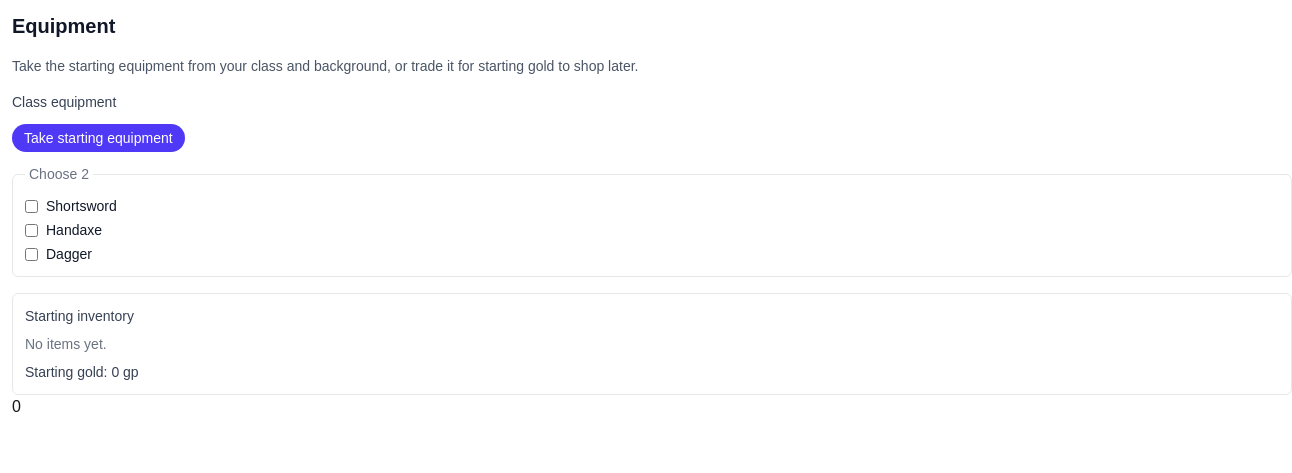
EquipmentStep — starting equipment vs gold › enforces the choose count for a multi-pick group
Step 1. Click the checkbox labelled "Shortsword" → (32, 206), box [25,200,38,212]
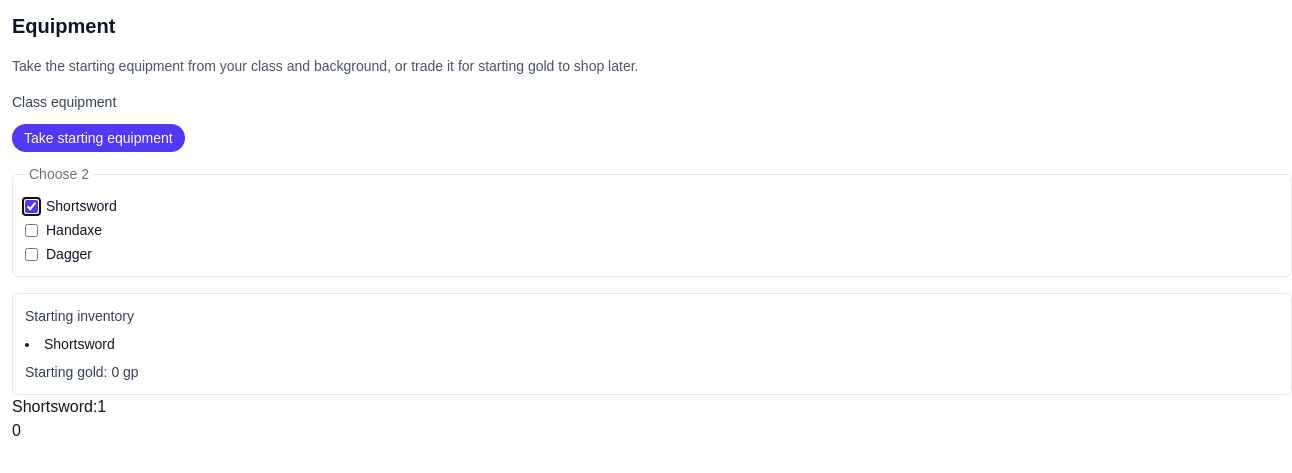
Step 2. Click the checkbox labelled "Handaxe" → (32, 230), box [25,224,38,236]
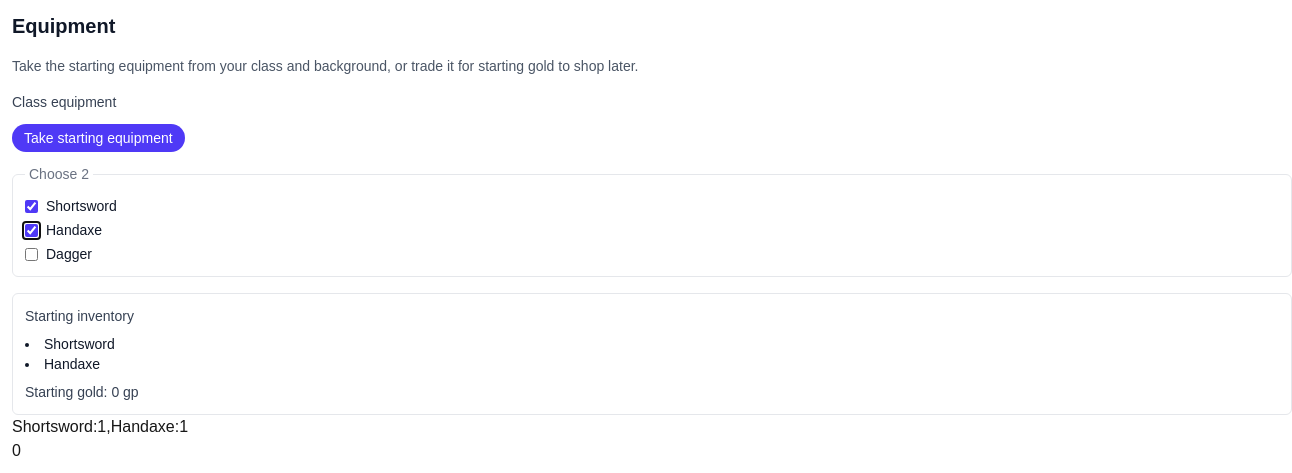
Expected: the text with test id "draft-inventory" reads "Shortsword:1,Handaxe:1", [12,418,188,435]
# A third pick is rejected — the group only allows two.
Step 3. Click the checkbox labelled "Dagger" → (32, 254), box [25,248,38,260]
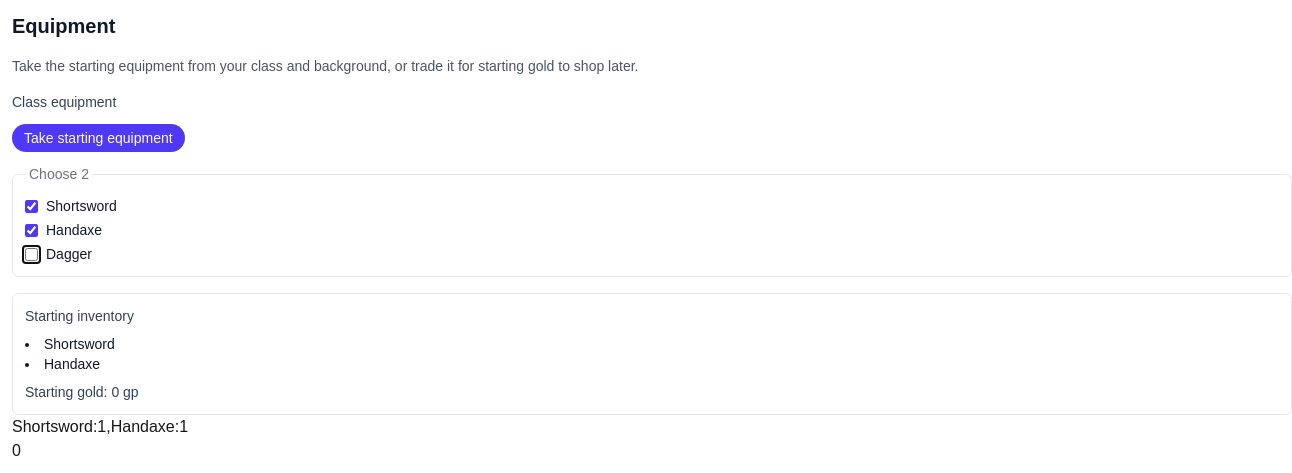
Expected: the text with test id "draft-inventory" reads "Shortsword:1,Handaxe:1", [12,418,188,435]
# Un-checking a pick frees a slot and drops the item.
Step 4. Click the checkbox labelled "Handaxe" → (32, 230), box [25,224,38,236]
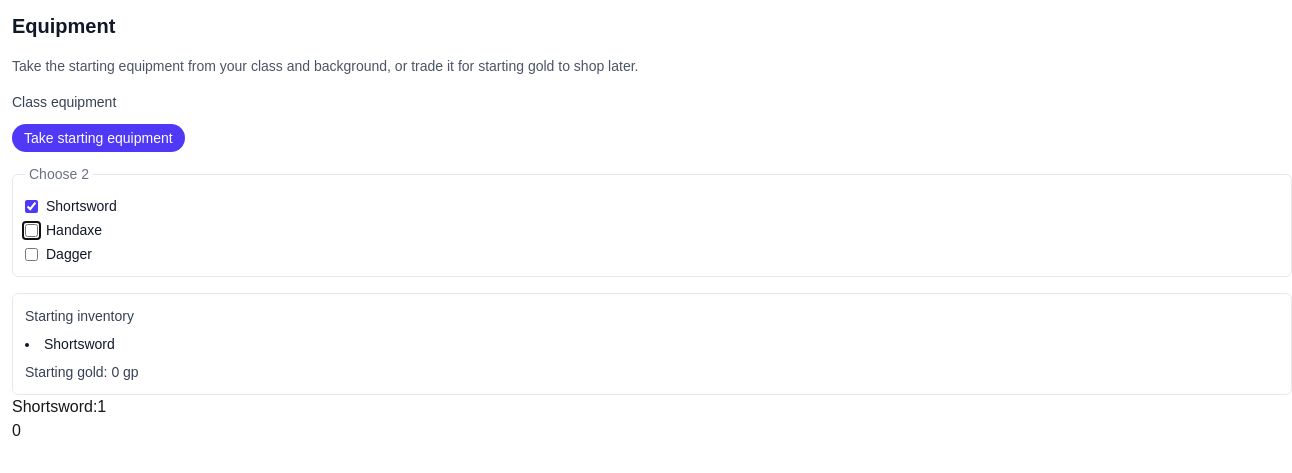
Expected: the text with test id "draft-inventory" reads "Shortsword:1", [12,398,106,415]
Step 5. Click the checkbox labelled "Dagger" → (32, 254), box [25,248,38,260]
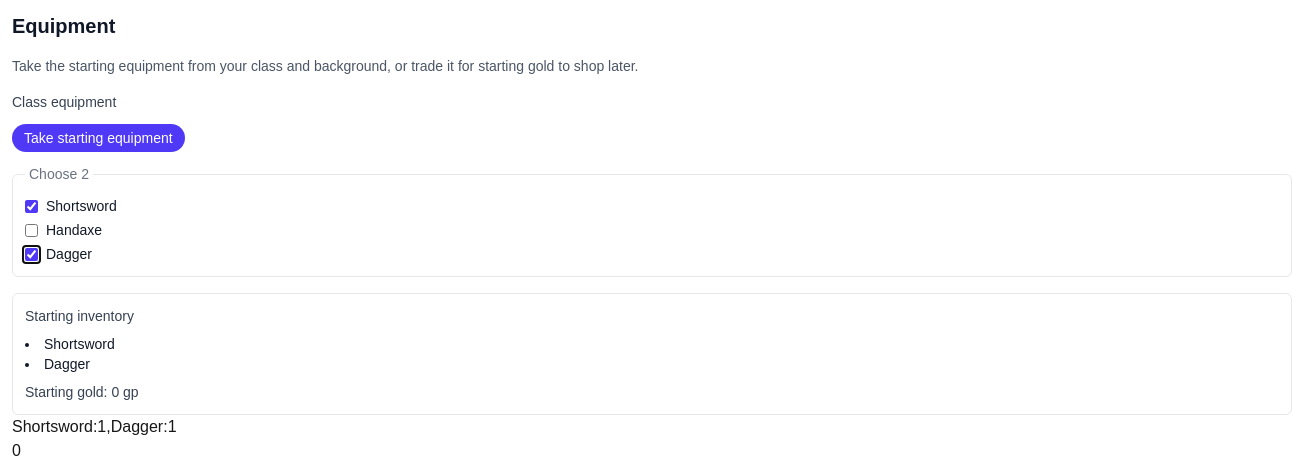
Expected: the checkbox labelled "Dagger" is checked, [25,248,38,260]
Expected: the text with test id "draft-inventory" reads "Shortsword:1,Dagger:1", [12,418,176,435]
